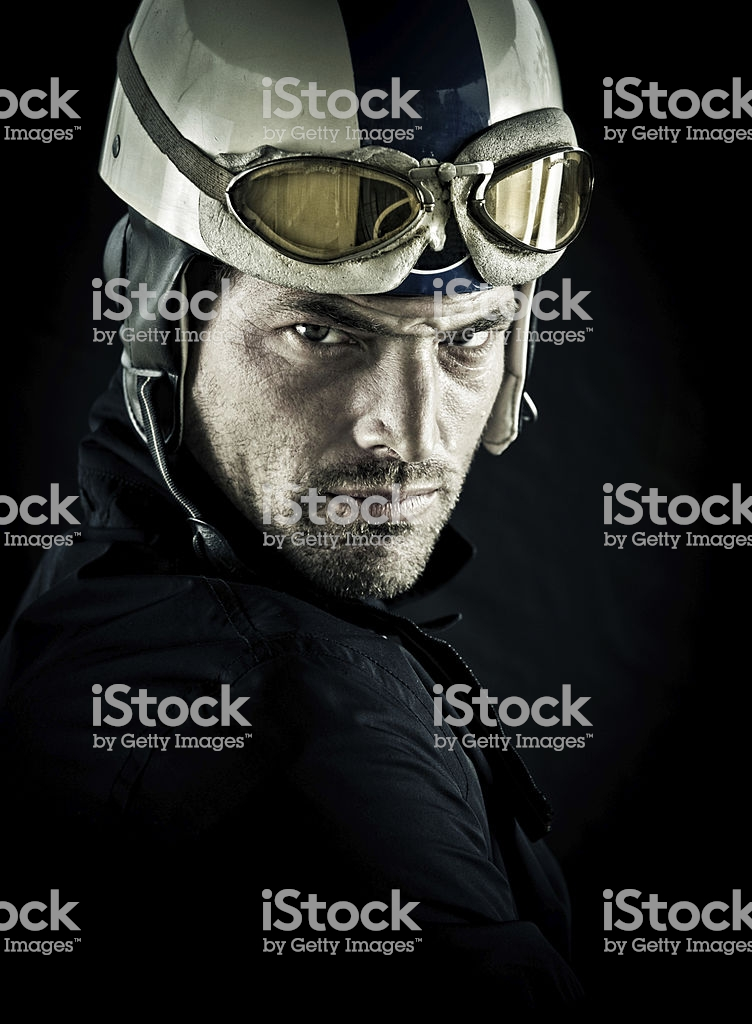helmet: (111, 3, 609, 298)
